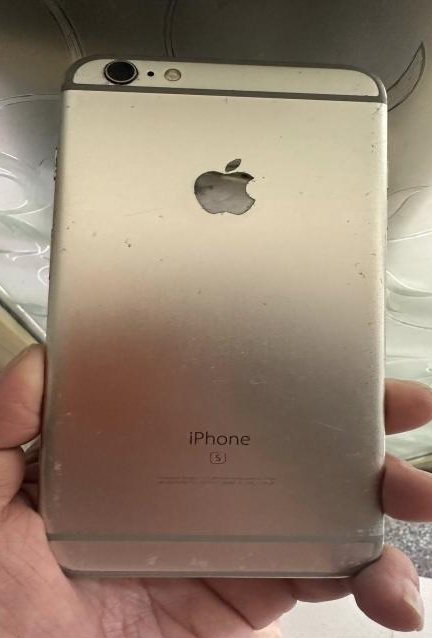scratch: (192, 147, 264, 230), (174, 282, 243, 357), (123, 544, 224, 587), (348, 242, 394, 332), (336, 470, 397, 536), (46, 108, 87, 190), (38, 522, 104, 572), (85, 54, 163, 95), (355, 330, 403, 396), (353, 399, 400, 466), (323, 540, 392, 583), (350, 173, 399, 233), (222, 546, 298, 582), (355, 95, 392, 166), (42, 444, 76, 517), (106, 224, 160, 268), (49, 209, 86, 267), (42, 399, 91, 441), (293, 64, 346, 84), (153, 201, 187, 232), (207, 449, 230, 467)
